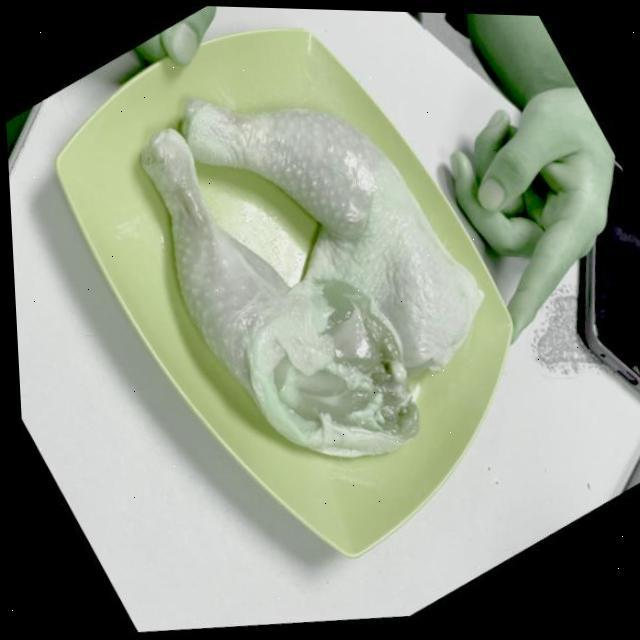quater: (136, 123, 408, 469), (201, 77, 496, 310)
